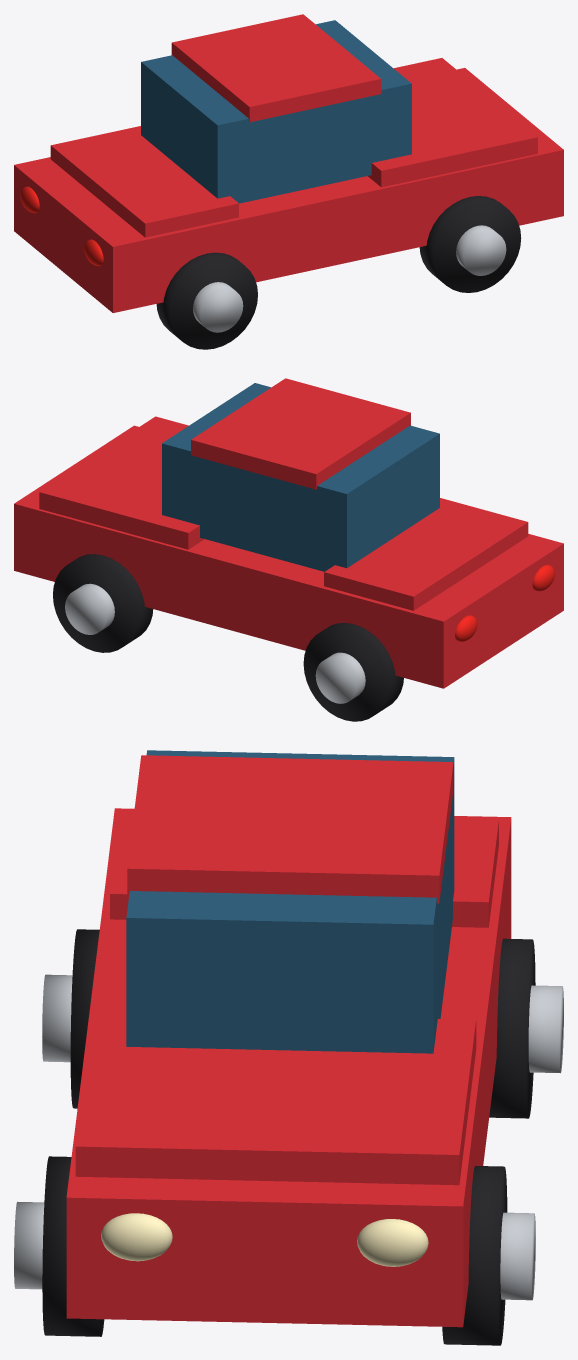
File: Car.glb
3 views of the same model, one above another, from view 1: azimuth 30°, elevation 25°; view 2: azimuth 150°, elevation 25°; view 3: azimuth 270°, elevation 25° (orthographic). The views are drawn at different scales.
Parts seen in each view (by area): view 1: 01 Main Car Body, 04 Cabin, 05 Roof, 02 Front Bonnet, 03 Rear Boot, Wheel 3, Wheel 1, Wheel Hub 1, Wheel Hub 3; view 2: 01 Main Car Body, 04 Cabin, 05 Roof, 03 Rear Boot, 02 Front Bonnet, Wheel 4, Wheel 2, Wheel Hub 4, Wheel Hub 2, Left Rear Light, Right Rear Light; view 3: 01 Main Car Body, 02 Front Bonnet, 04 Cabin, 05 Roof, Wheel 2, Wheel 4, 03 Rear Boot, Wheel 1, Wheel 3, Wheel Hub 2, Wheel Hub 4, Left Headlight (+3 smaller).
Boxes of the visible parts, <box> form: 01 Main Car Body: <box>14,68,563,312</box>; 04 Cabin: <box>141,20,411,203</box>; 05 Roof: <box>171,14,381,122</box>; 02 Front Bonnet: <box>368,58,537,187</box>; 03 Rear Boot: <box>50,126,238,237</box>; Wheel 3: <box>156,252,257,349</box>; Wheel 1: <box>419,196,521,292</box>; Wheel Hub 1: <box>456,225,506,275</box>; Wheel Hub 3: <box>193,282,243,332</box>; 01 Main Car Body: <box>14,425,563,688</box>; 04 Cabin: <box>162,383,439,571</box>; 05 Roof: <box>191,378,410,489</box>; 03 Rear Boot: <box>324,498,528,610</box>; 02 Front Bonnet: <box>39,416,204,549</box>; Wheel 4: <box>303,623,403,721</box>; Wheel 2: <box>53,554,153,652</box>; Wheel Hub 4: <box>315,652,365,703</box>; Wheel Hub 2: <box>65,583,114,634</box>; Left Rear Light: <box>532,564,554,591</box>; Right Rear Light: <box>455,615,477,641</box>; 01 Main Car Body: <box>66,808,511,1327</box>; 02 Front Bonnet: <box>75,1011,476,1185</box>; 04 Cabin: <box>126,750,454,1053</box>; 05 Roof: <box>127,755,453,903</box>; Wheel 2: <box>442,1166,507,1345</box>; Wheel 4: <box>489,938,535,1118</box>; 03 Rear Boot: <box>110,812,498,927</box>; Wheel 1: <box>42,1156,104,1336</box>; Wheel 3: <box>70,929,99,1108</box>; Wheel Hub 2: <box>500,1212,535,1300</box>; Wheel Hub 4: <box>528,985,563,1073</box>; Left Headlight: <box>101,1213,172,1261</box>.
Size of what is drawn, in the model's own units: 3.79 by 1.69 by 2.15.
